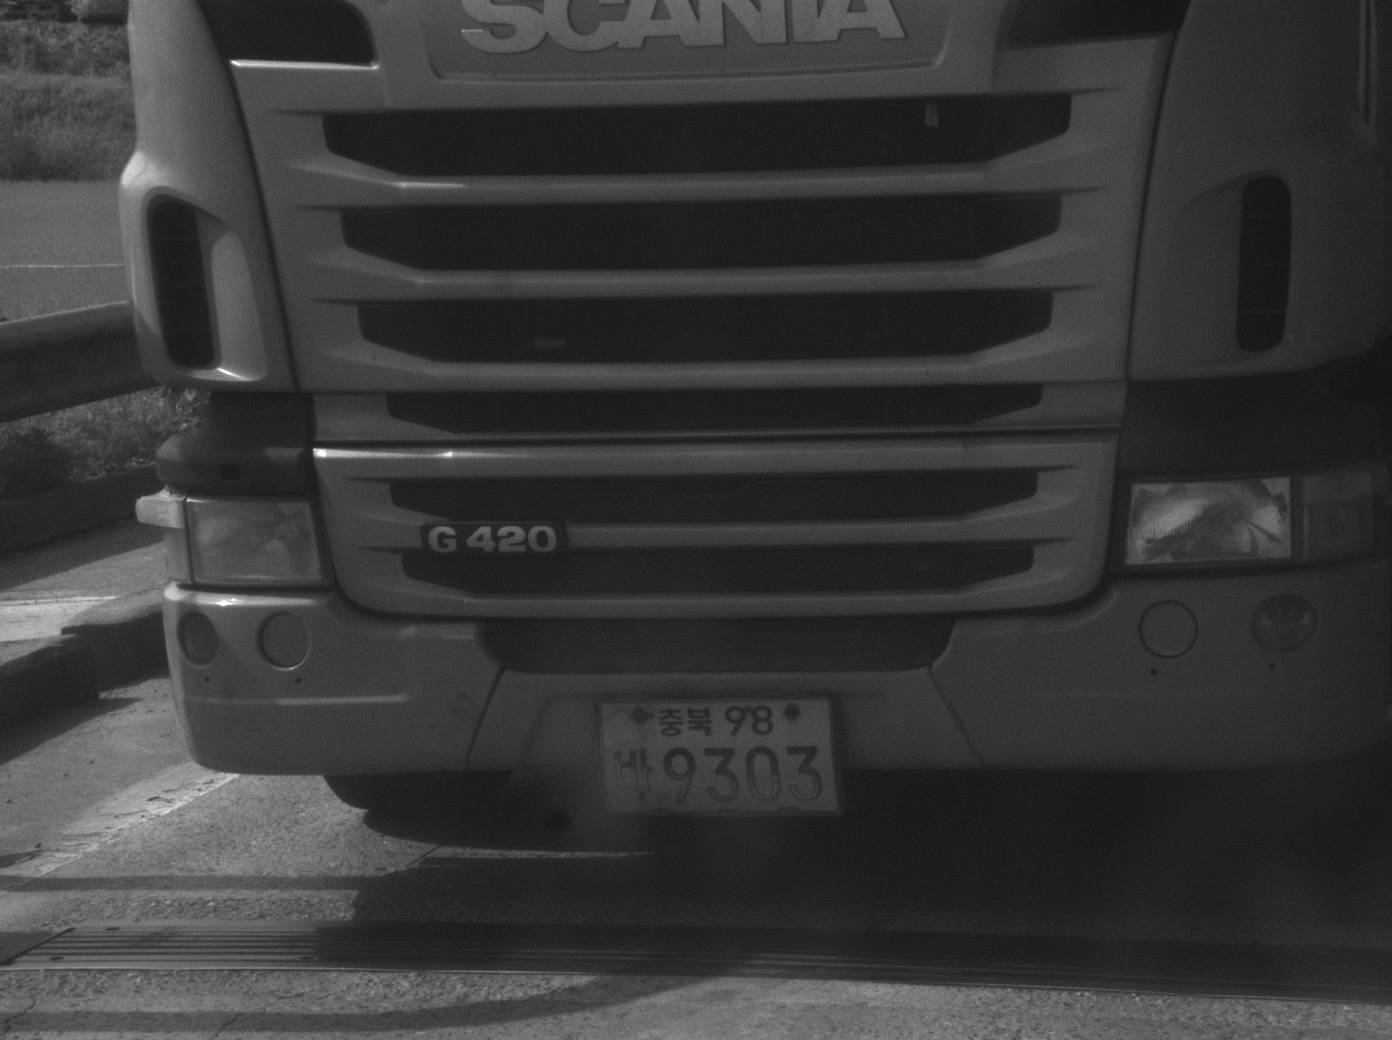car: (118, 1, 1389, 826)
plate: (592, 695, 847, 820)
